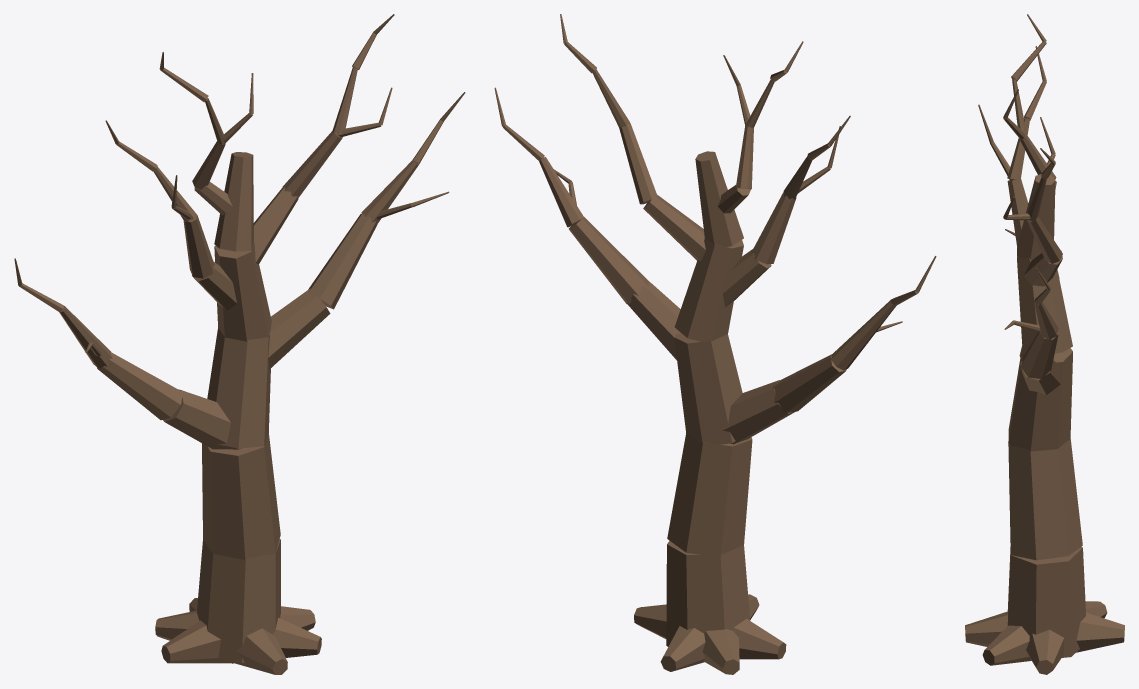
File: arbolSeco.fbx
3 views of the same model, side by side, from view 1: azimuth 30°, elevation 25°; view 2: azimuth 150°, elevation 25°; view 3: azimuth 270°, elevation 25° (orthographic). The views are drawn at different scales.
Visible parts, largest first — view 1: Arbol_Seco; view 2: Arbol_Seco; view 3: Arbol_Seco.
Boxes of the visible parts, x1,y1,x2,y2 form: Arbol_Seco: (14, 14, 465, 674); Arbol_Seco: (494, 14, 936, 674); Arbol_Seco: (965, 14, 1124, 674).
Size of the model in its own units: 556 by 755 by 181.
